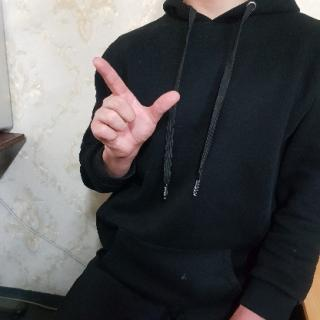LAAM: (89, 52, 186, 168)
